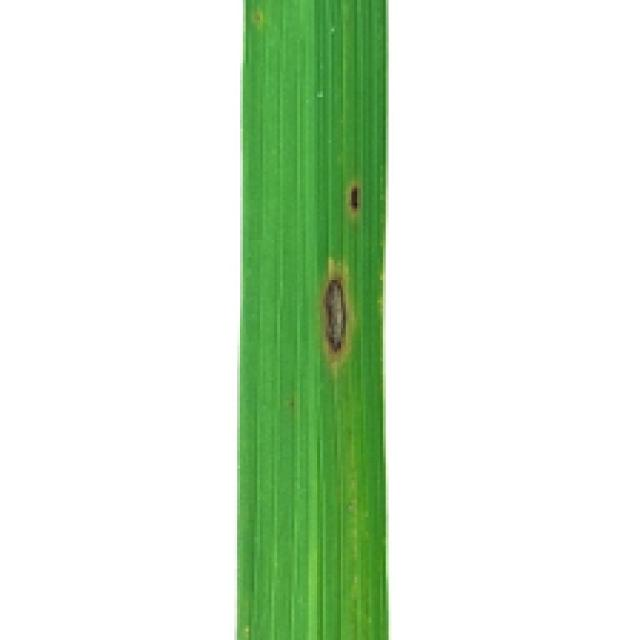Rice___Rice_Blast: (236, 0, 390, 637)
